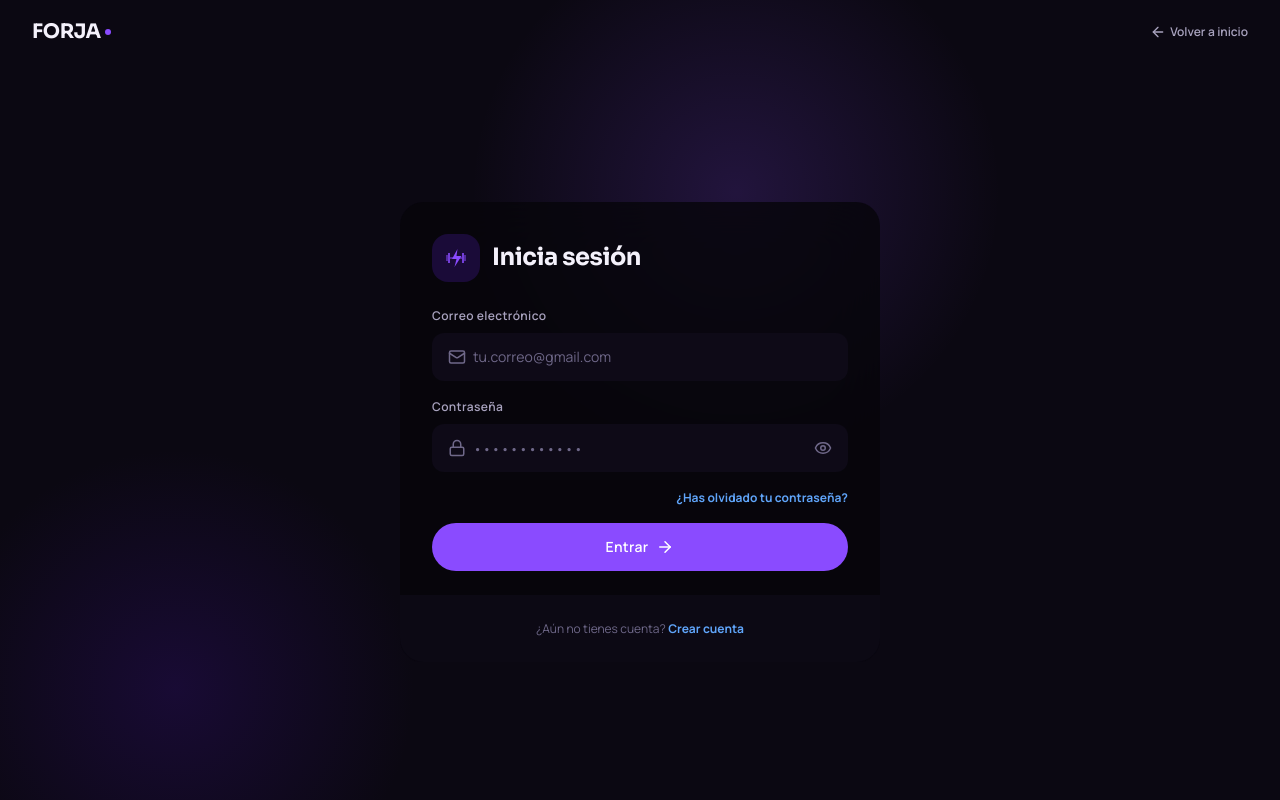
LoginPage › shows the credentials error for invalid credentials, and lets the user dismiss it
Type "otro@forjafit.demo" into the field labelled "Correo electrónico" at (640, 357), box 432,333 -> 848,381
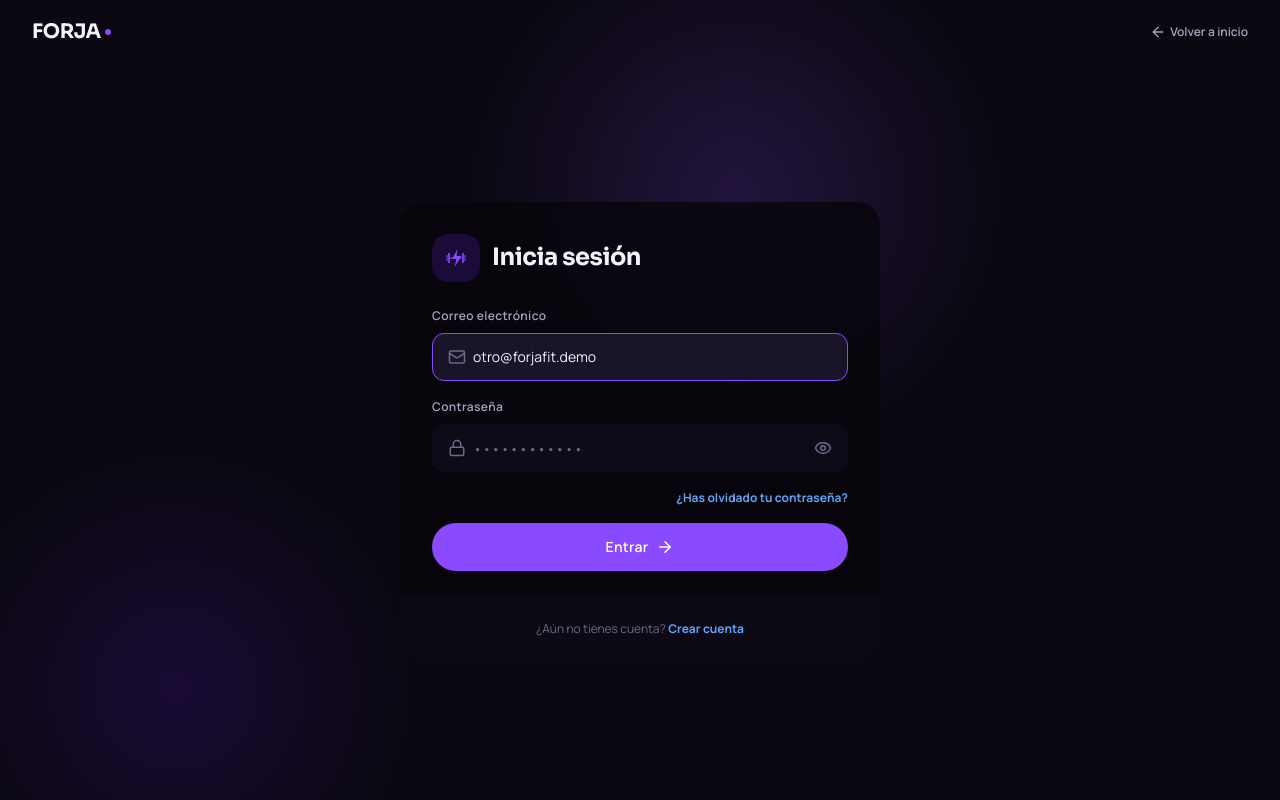
Type "incorrecta" into the password field labelled "Contraseña" at (640, 448), box 432,424 -> 848,472
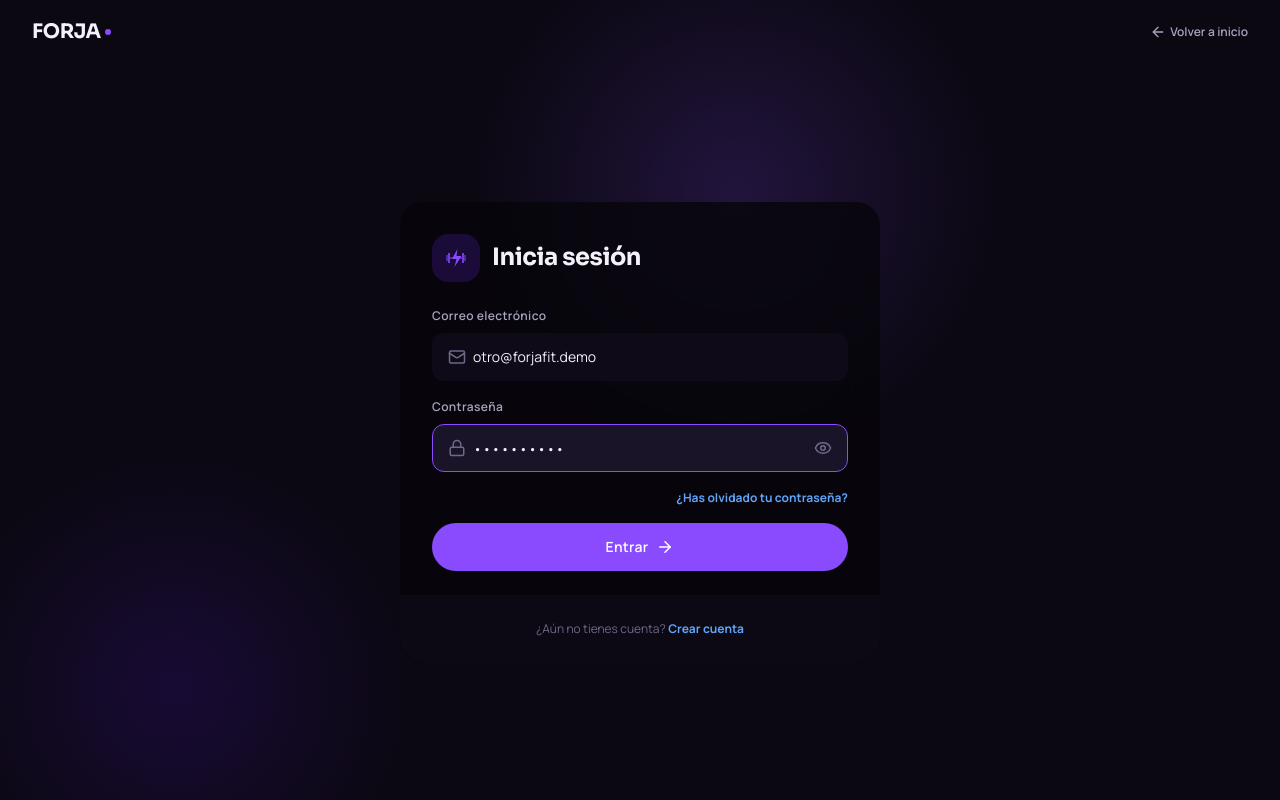
Click the button "Entrar" at (640, 547), box 432,523 -> 848,571
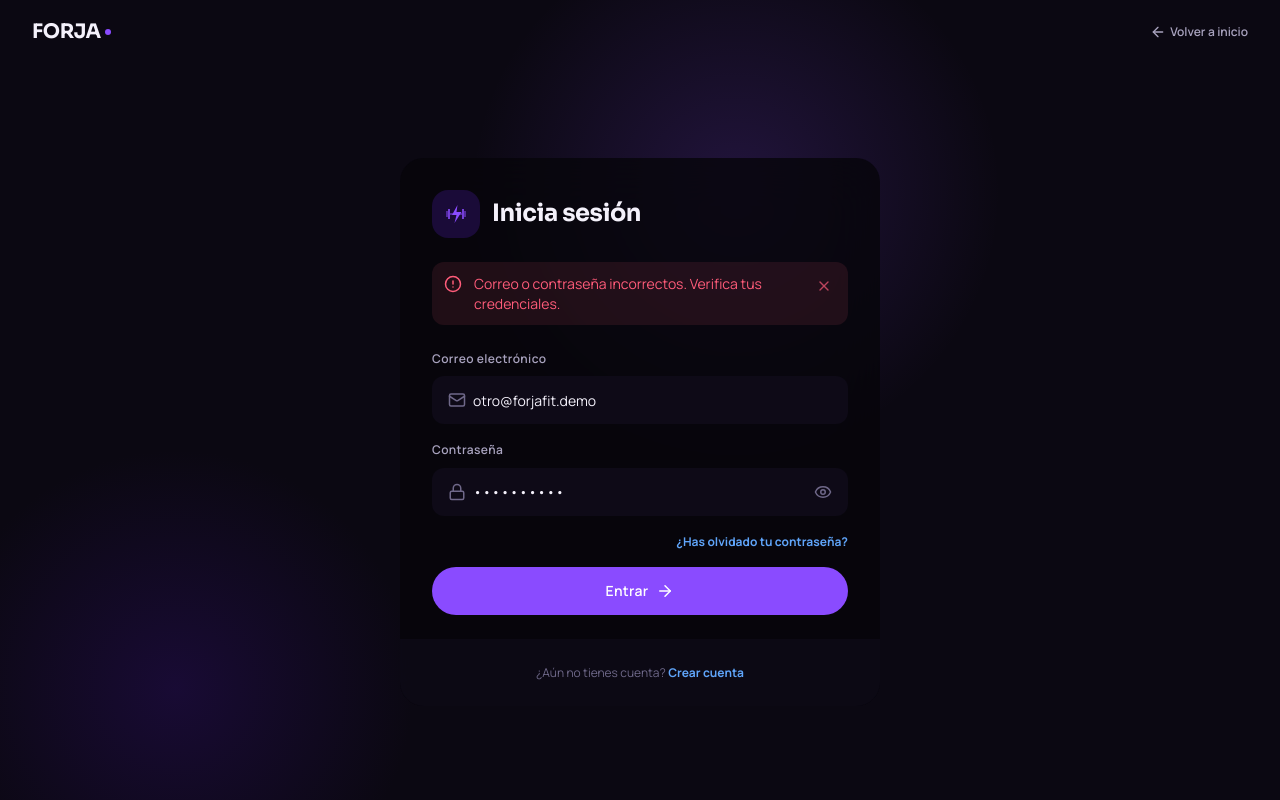
Result: the text "Correo o contraseña incorrectos. Verifica tus credenciales." is shown at 474,274 -> 800,313
Click the button named "Descartar" at (824, 286), box 812,274 -> 836,298
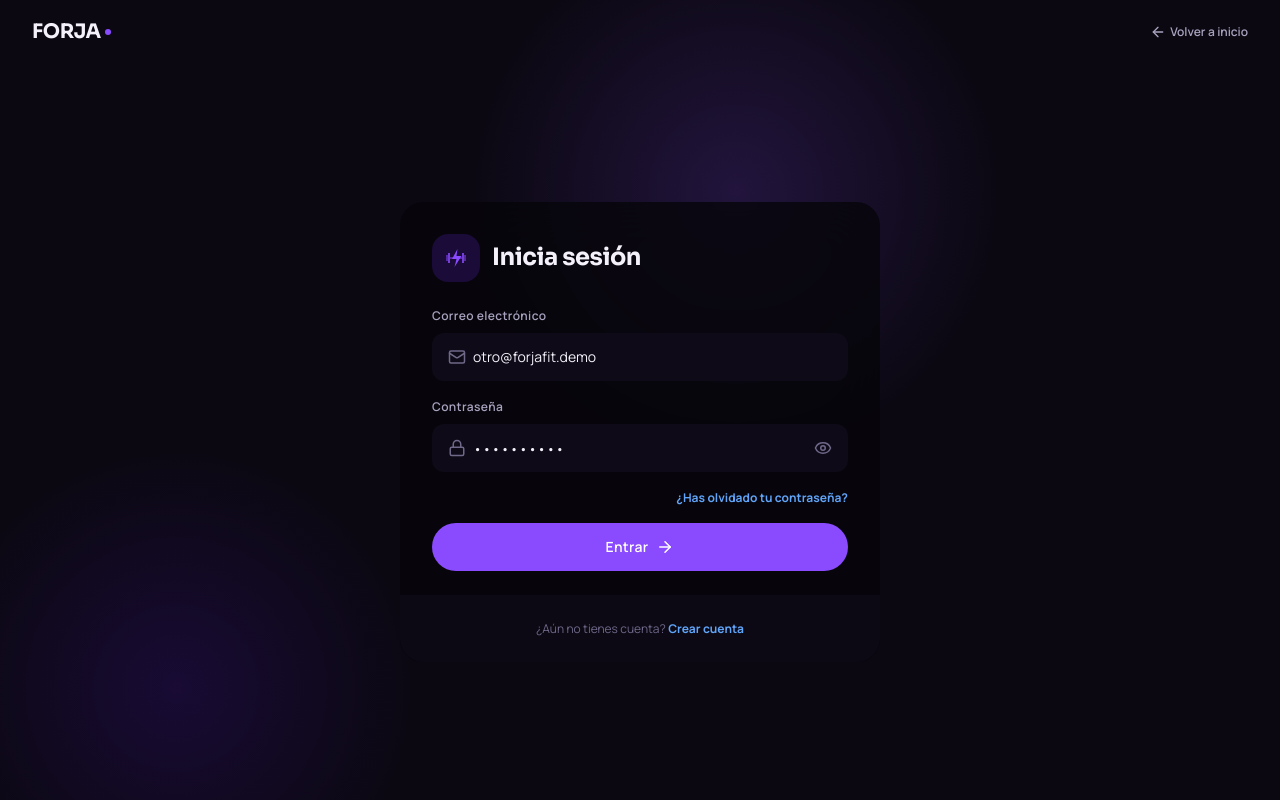
Result: the message "Correo o contraseña incorrectos. Verifica tus credenciales." is gone
